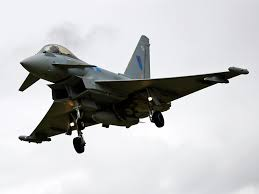fighter: (15, 33, 251, 155)
